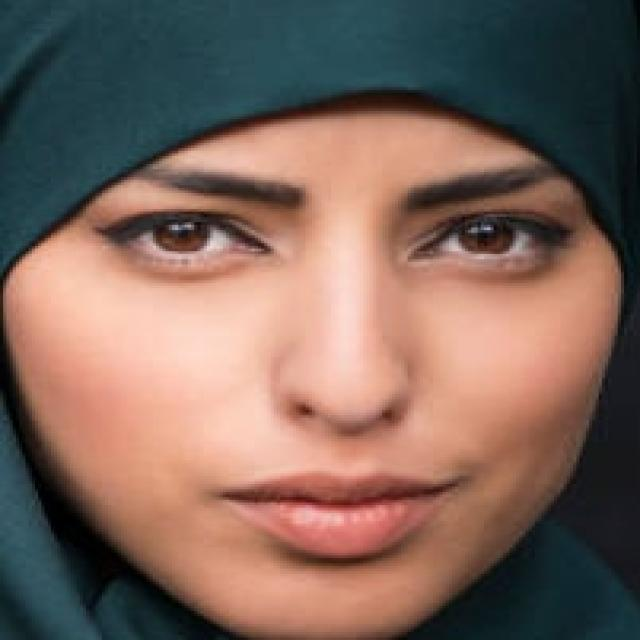Anxiety: (0, 101, 629, 637)
